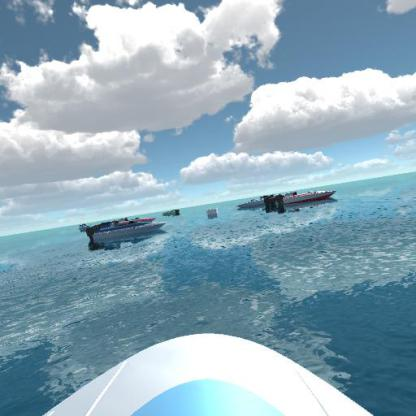usv0: (161, 204, 182, 218)
usv1: (85, 220, 170, 244), (236, 189, 268, 210)
usv3: (270, 186, 338, 206), (104, 210, 156, 227), (74, 219, 92, 232)
